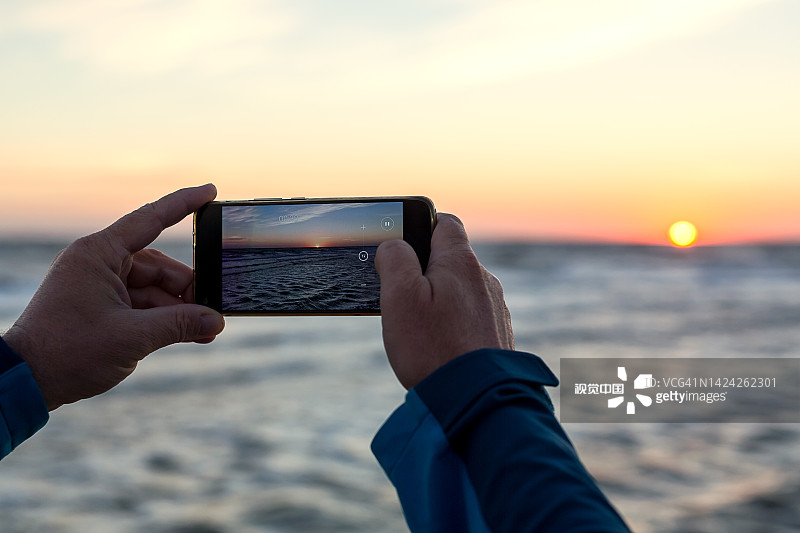taking photos: (1, 162, 320, 470), (278, 185, 558, 435)
